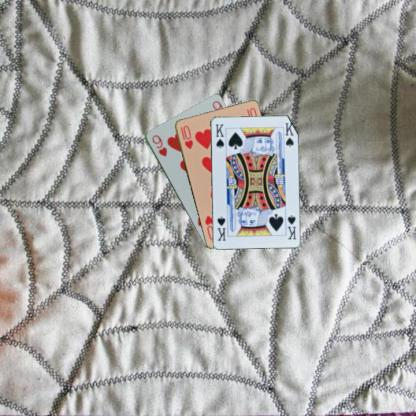10h: (178, 123, 194, 150)
9h: (149, 132, 168, 158)
Ks: (213, 121, 225, 149), (285, 213, 297, 240)
